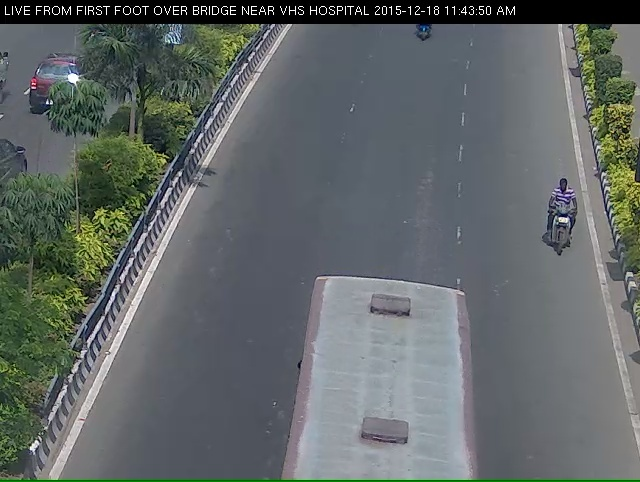Bus: (282, 292, 477, 481)
Person: (537, 175, 583, 281)
